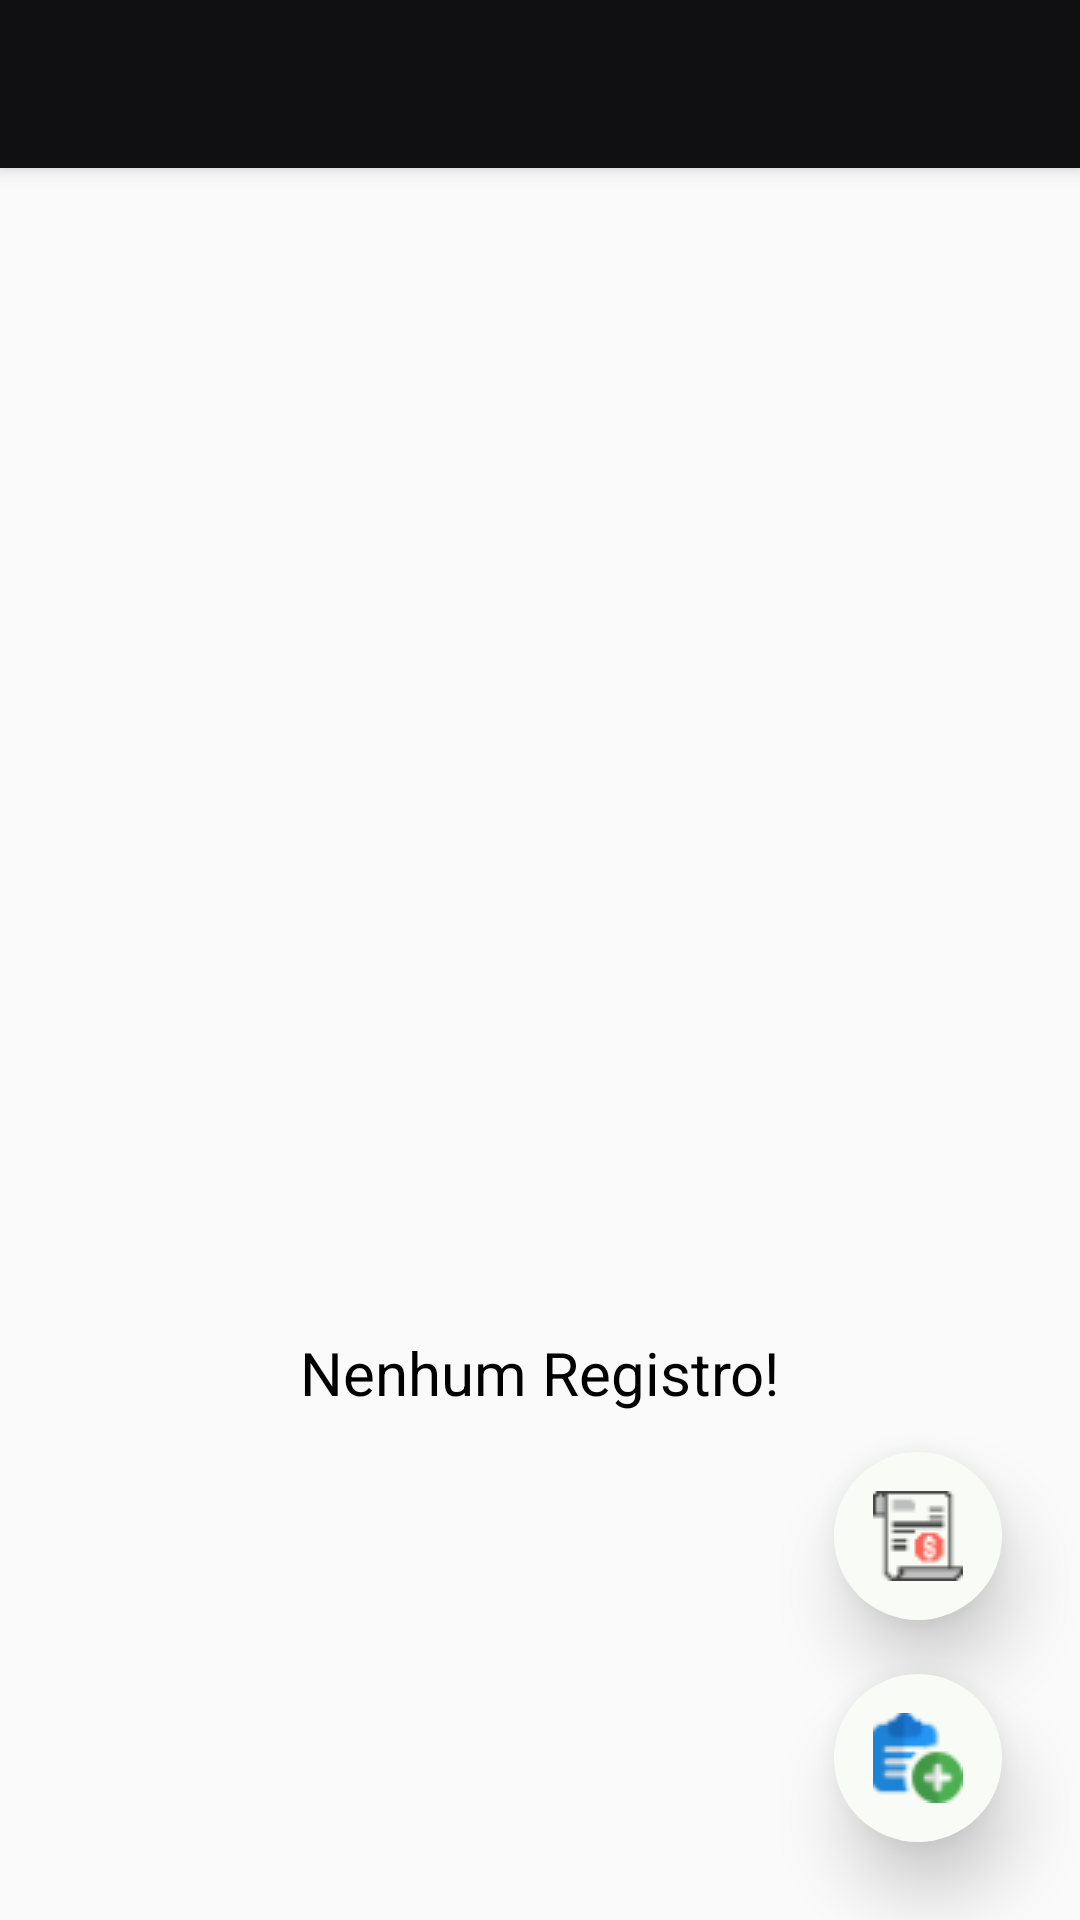

Locate icon controls on the screen. Image size 1080w x 1920h, boxes as (x1, y1, x2, y2).
contas add: (873, 1713, 963, 1803)
fatura: (873, 1491, 963, 1581)
